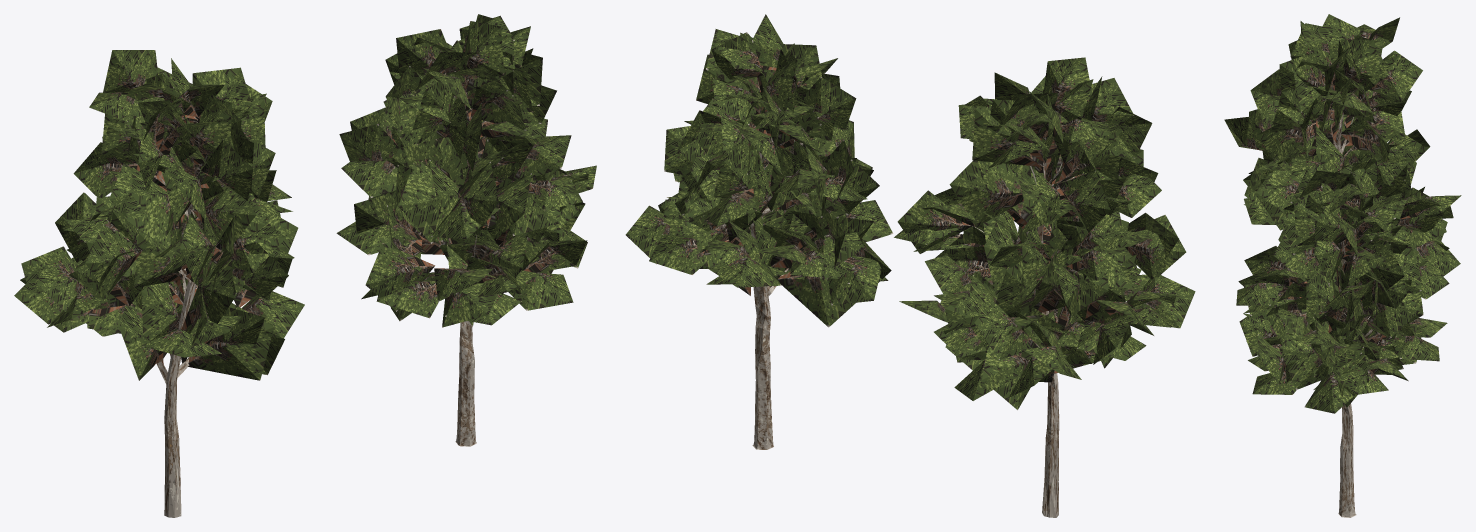
The model's file is Trees.fbx.
3 views of the same model, side by side, from view 1: azimuth 30°, elevation 25°; view 2: azimuth 150°, elevation 25°; view 3: azimuth 270°, elevation 25° (orthographic). The views are drawn at different scales.
Visible parts, largest first — view 1: Trees_01, Trees_02; view 2: Trees_01, Trees_02; view 3: Trees_02, Trees_01.
Part boxes in pixels (x1,y1,x2,y2): Trees_01: [14, 50, 304, 517]; Trees_02: [336, 14, 596, 446]; Trees_01: [894, 57, 1195, 517]; Trees_02: [625, 14, 893, 449]; Trees_02: [1236, 160, 1449, 517]; Trees_01: [1224, 14, 1461, 276].
Bounding box in the file's own units: 11.64 × 8.99 × 5.22.
Materials: 1 (1 with a texture image).
